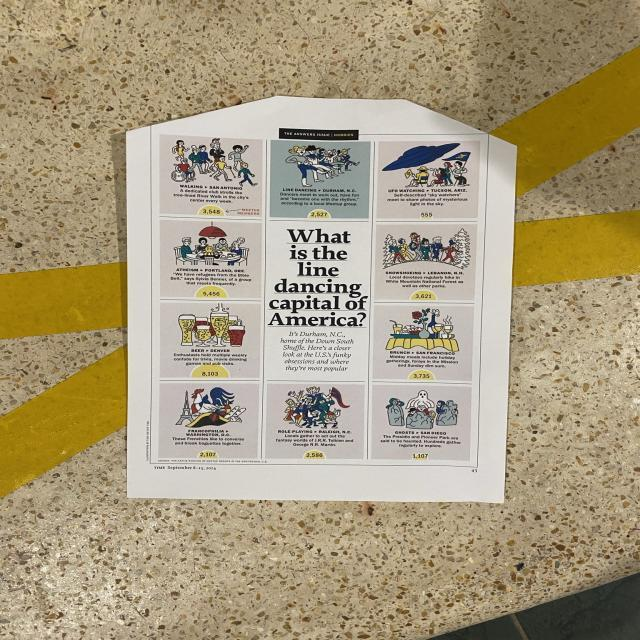document: (128, 96, 515, 502)
